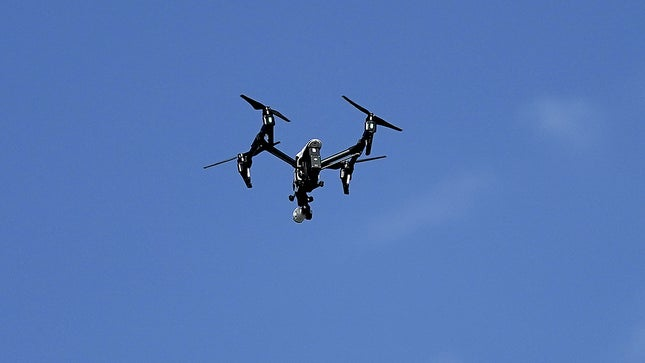drone: (197, 85, 409, 228)
